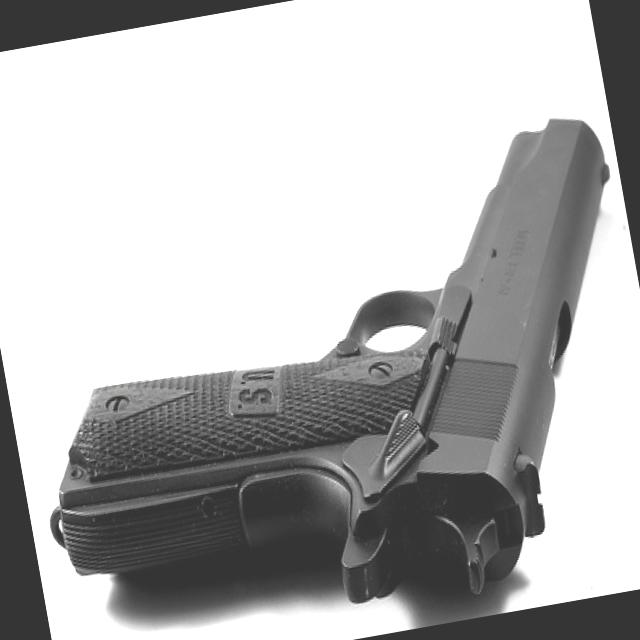handgun: (0, 106, 639, 639)
